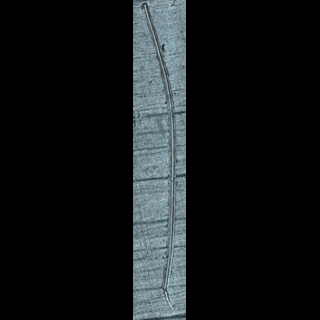d: (139, 2, 178, 314)
